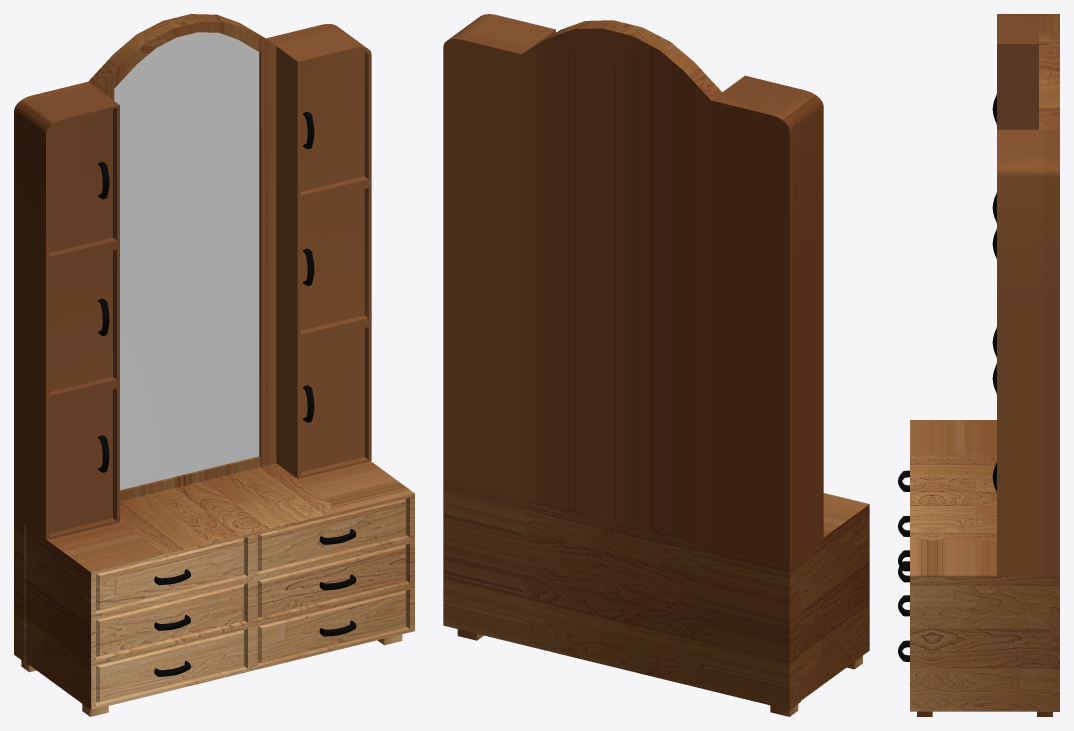
3 renders of one model, left to right at view 1: azimuth 30°, elevation 25°; view 2: azimuth 150°, elevation 25°; view 3: azimuth 270°, elevation 25°, orthographic. The views are drawn at different scales.
Visible parts, largest first — view 1: mirror farniture _wood_0, mirror farniture _Material.002_0, mirror farniture _handal _0; view 2: mirror farniture _wood_0; view 3: mirror farniture _wood_0, mirror farniture _handal _0.
Boxes of the visible parts, x1=… form: mirror farniture _wood_0: x1=14, y1=14, x2=414, y2=716; mirror farniture _Material.002_0: x1=114, y1=32, x2=259, y2=490; mirror farniture _handal _0: x1=98, y1=112, x2=356, y2=676; mirror farniture _wood_0: x1=443, y1=14, x2=869, y2=716; mirror farniture _wood_0: x1=910, y1=14, x2=1059, y2=716; mirror farniture _handal _0: x1=898, y1=94, x2=996, y2=661.
Size of the model in its own units: 4.95 by 8.82 by 2.16.
Materials: 3 (1 with a texture image).
